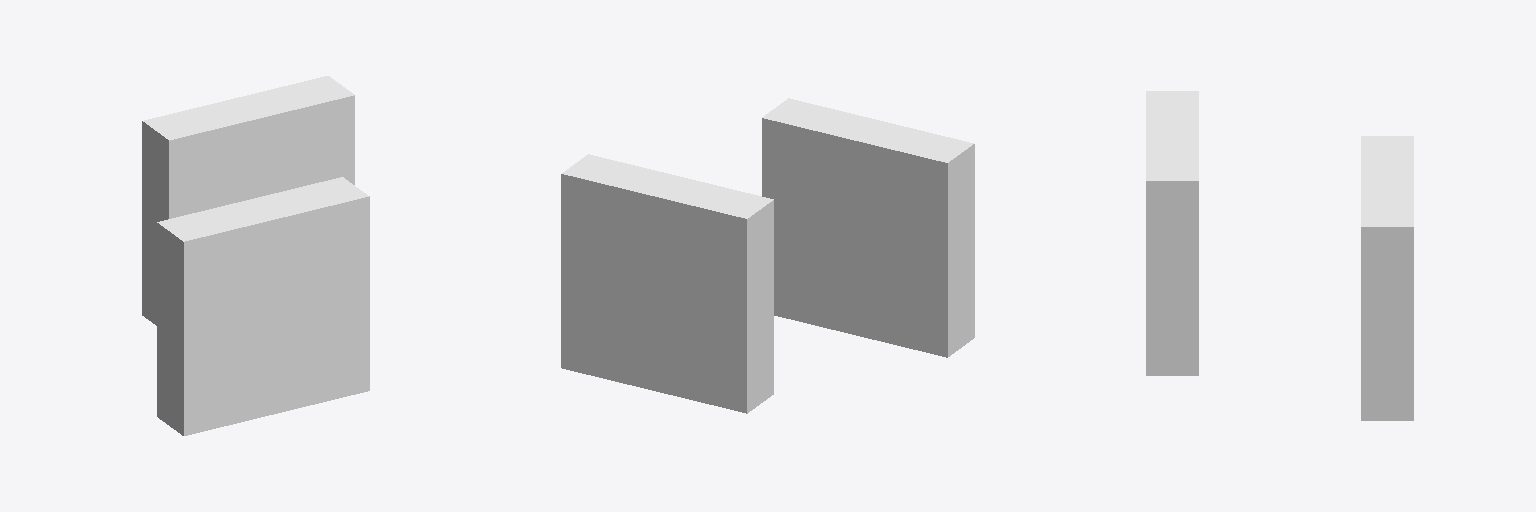
Rendered from 1.5wall.obj.
The picture shows the model from 3 angles: view 1: azimuth 30°, elevation 25°; view 2: azimuth 150°, elevation 25°; view 3: azimuth 270°, elevation 25°; orthographic projection.
Size of the model in its own units: 18 by 12 by 15.